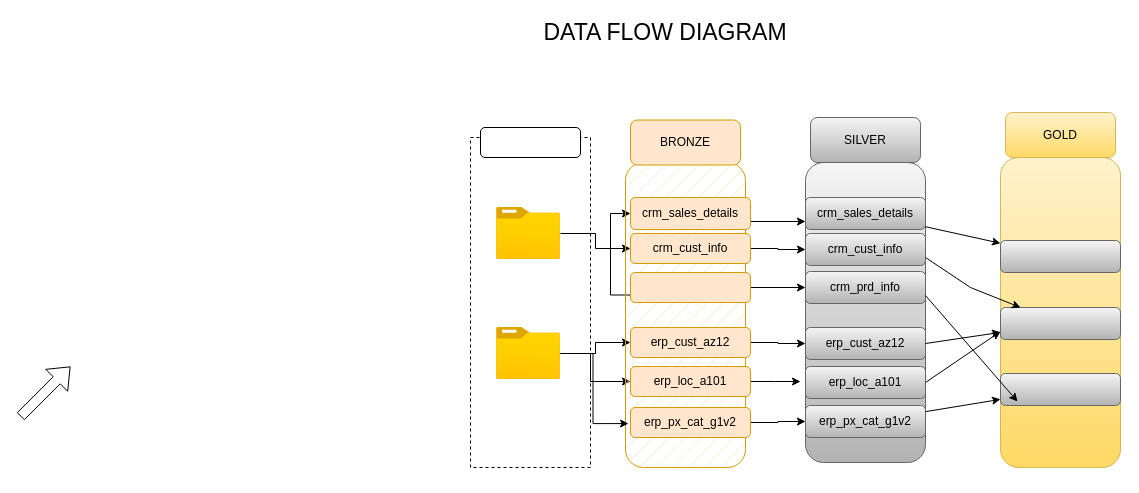
This 1139x493 diagram has some shape labels left out. The shapes that lost their labels are listed below. From the top down, each one's centre as x and y in pixels, then its label:
At point (530, 142): "sources".
At point (528, 233): "CRM".
At point (1060, 256): "fact_sales".
At point (690, 287): "crm_prod_info".
At point (1060, 323): "dim_customers".
At point (528, 353): "ERP".
At point (1060, 389): "dim_products".
